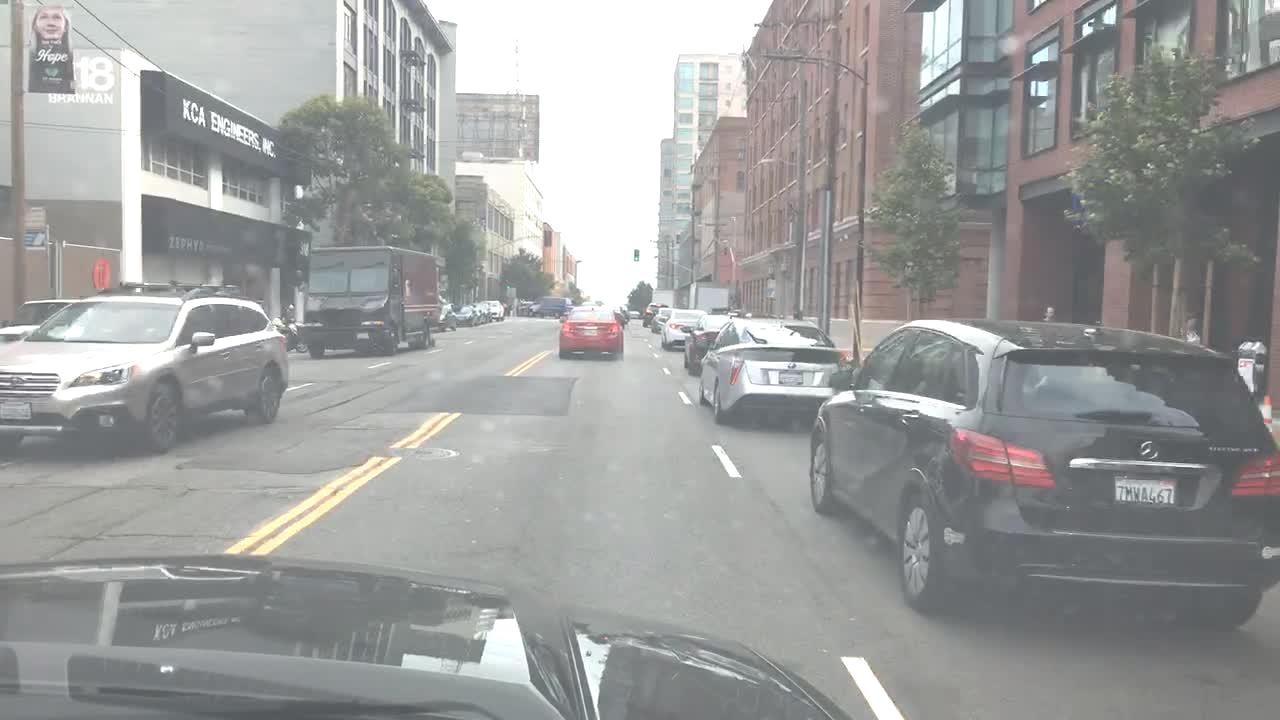Mercedes: (1134, 434, 1165, 464)
